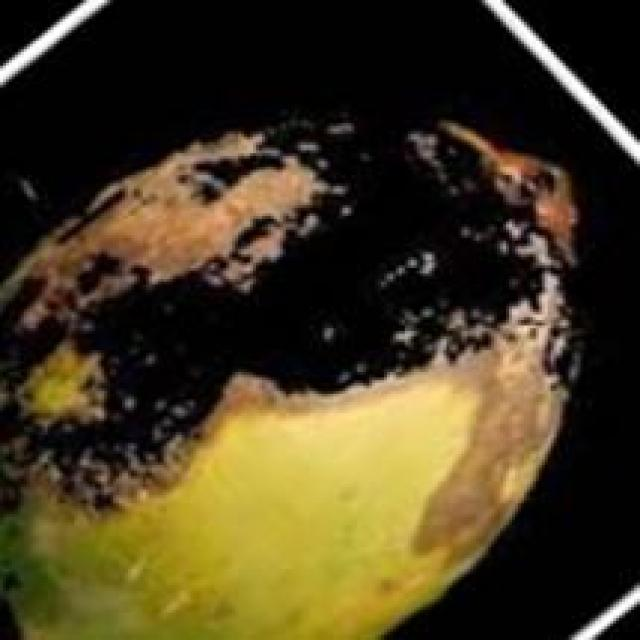damaged: (0, 118, 583, 637)
